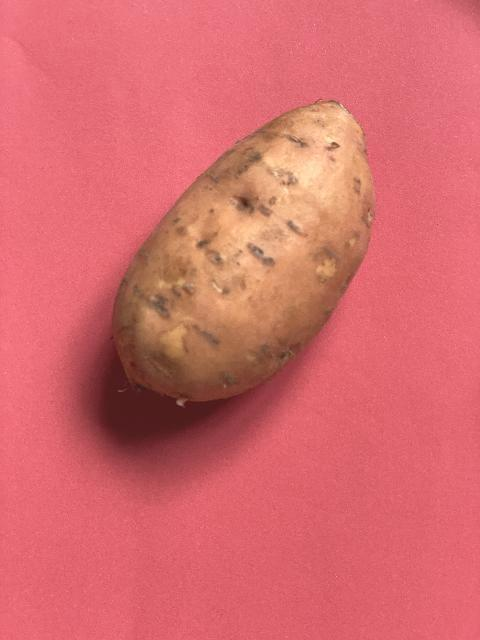sweetpotato: (111, 100, 376, 404)
